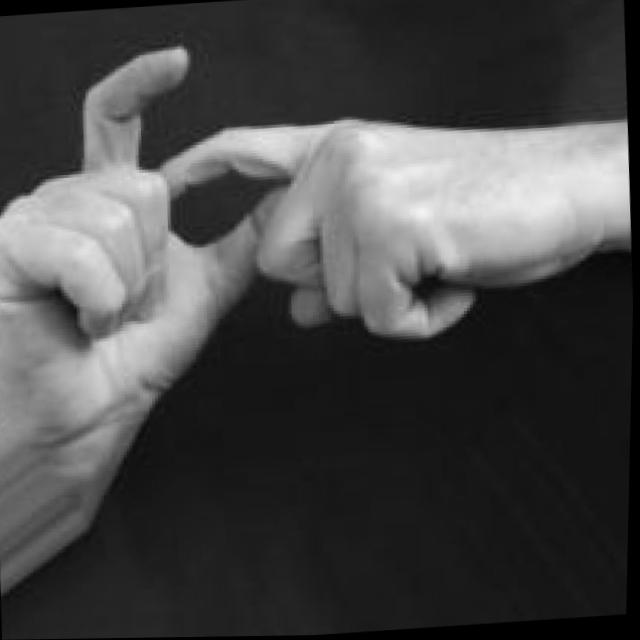G: (0, 7, 600, 448)
